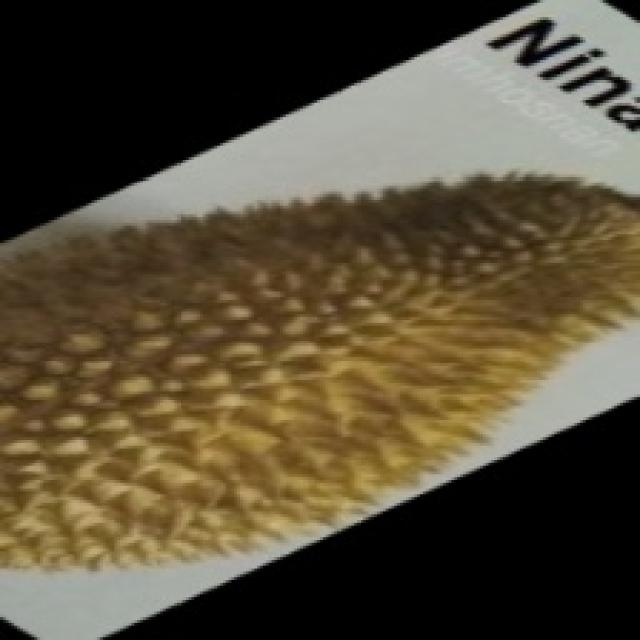d2: (0, 170, 633, 613)
